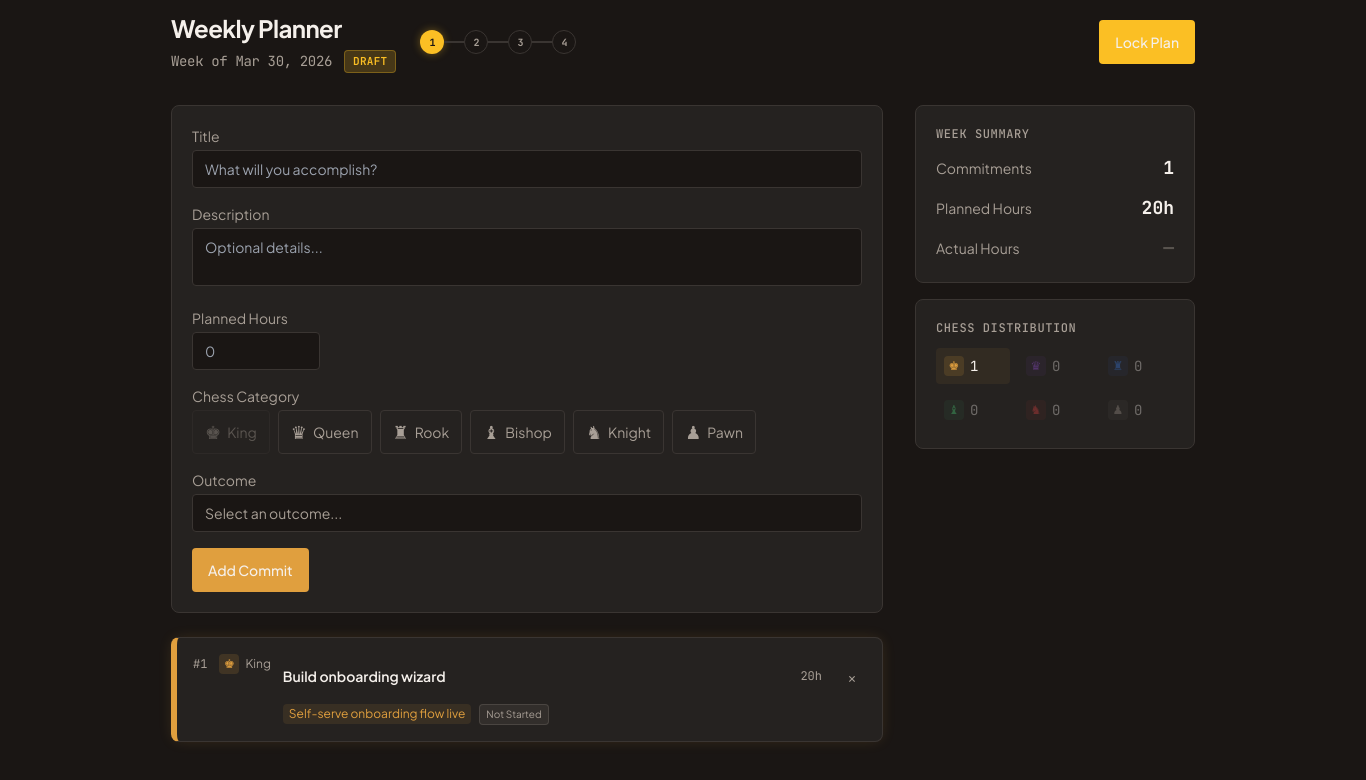
WeeklyPlannerPage › lock button validates before transitioning
The image size is (1366, 780).
expect the heading "Build onboarding wizard" is shown: met, box [283, 666, 446, 686]
Click the button "Lock Plan" at (1147, 42), box [1099, 20, 1195, 64]
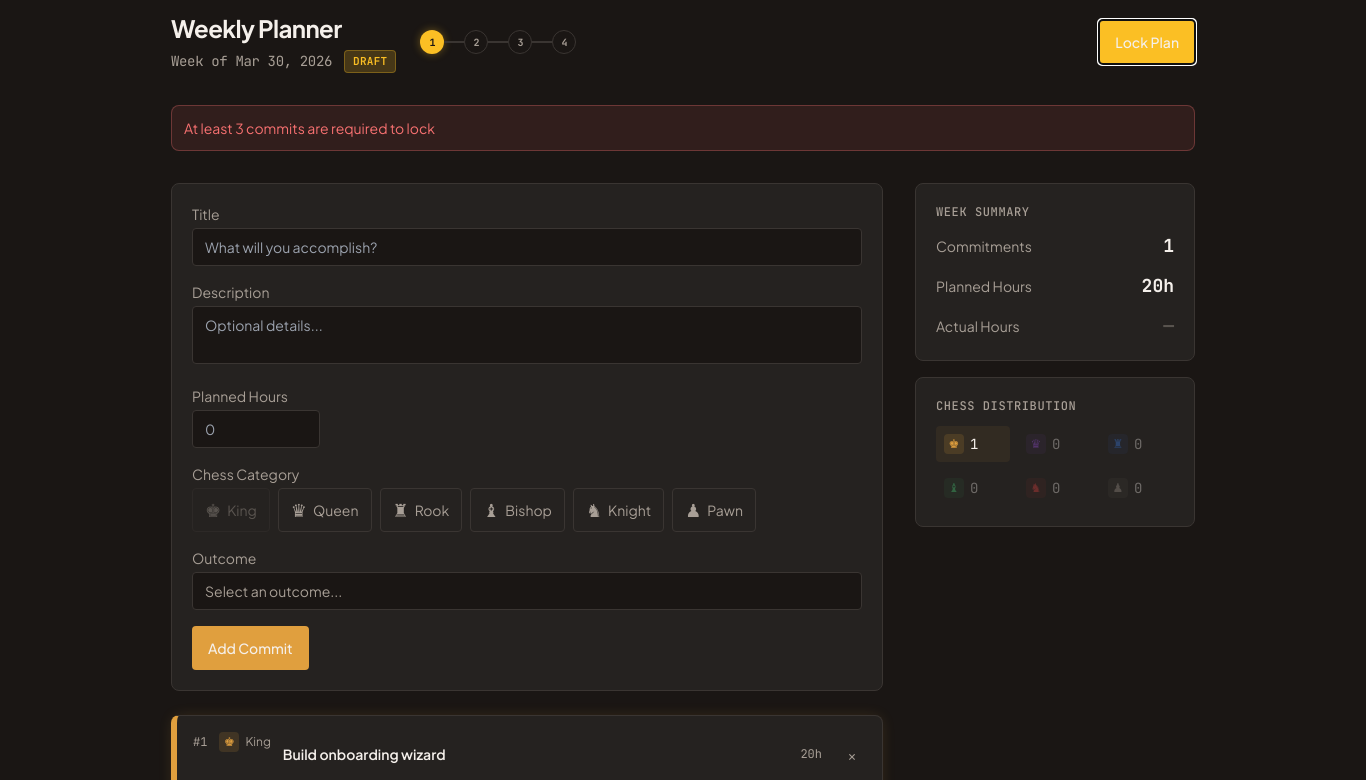
expect the text "At least 3 commits are required to lock" is shown: met, box [171, 104, 1195, 150]
